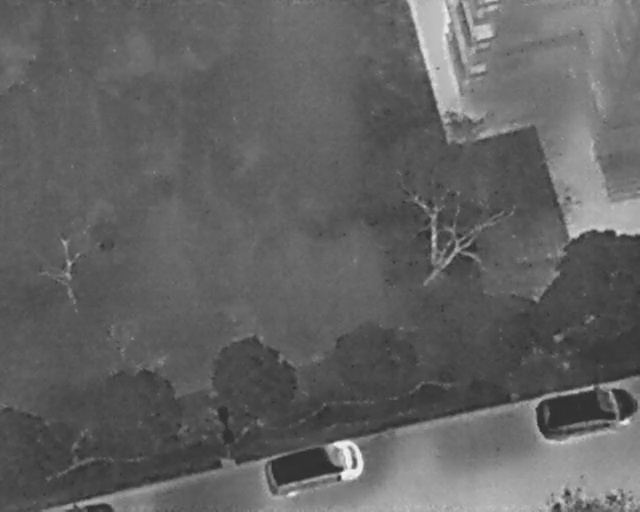Car: (260, 434, 368, 503), (532, 381, 639, 446), (62, 499, 114, 510)
